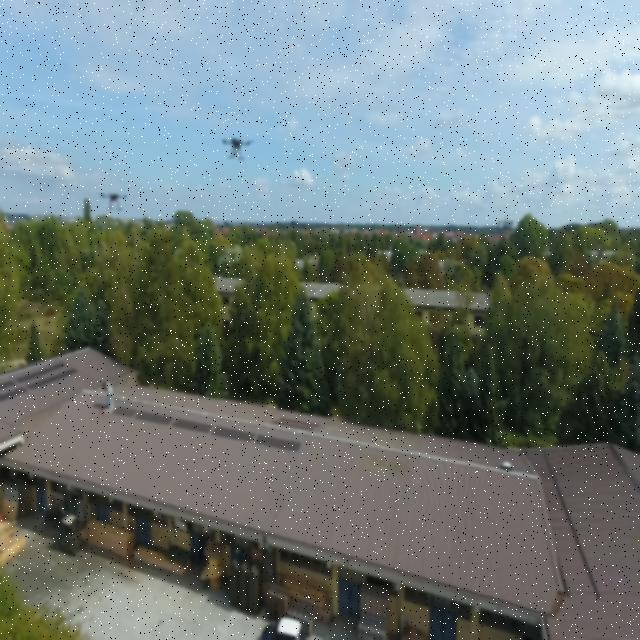UAV: (219, 131, 256, 164), (90, 188, 134, 210)
